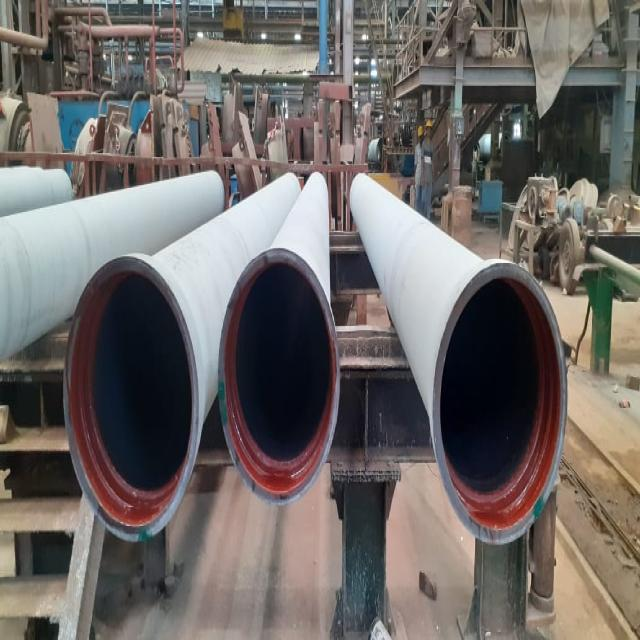pipe: (425, 267, 586, 538), (61, 276, 200, 546), (219, 269, 347, 532)
